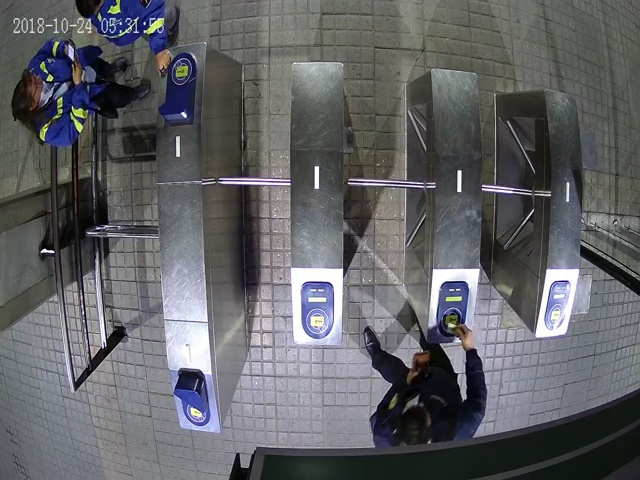Chaleco_azul: (10, 35, 152, 148), (76, 1, 179, 78)
